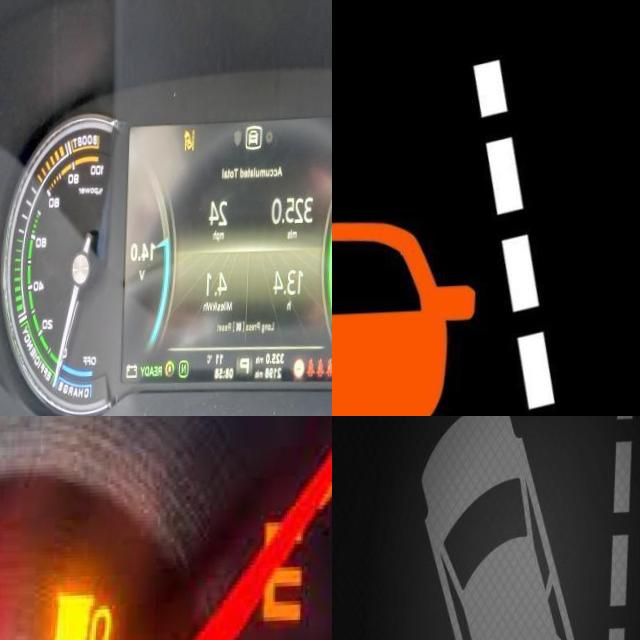Seat Belt: (319, 362, 328, 380), (311, 363, 317, 379), (328, 361, 332, 382)
